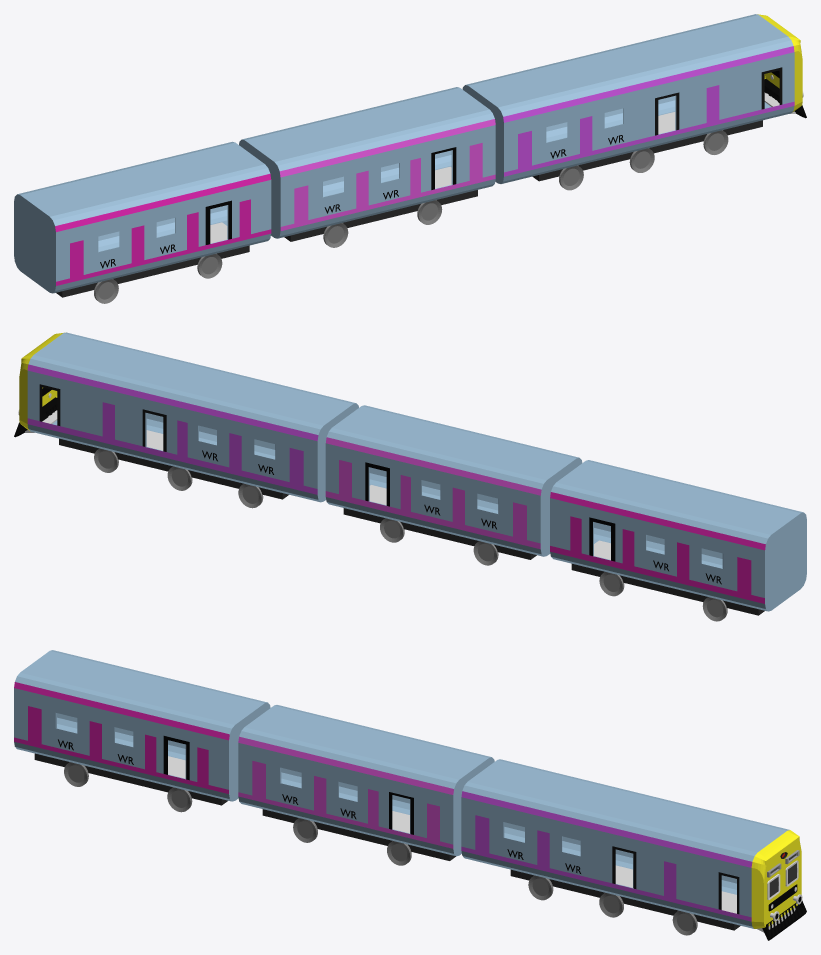
File: Train.gltf
3 views of the same model, one above another, from view 1: azimuth 30°, elevation 25°; view 2: azimuth 150°, elevation 25°; view 3: azimuth 330°, elevation 25° (orthographic).
Visible parts, largest first — view 1: Cube.003, Cube.001, Cube.002, Cube.013, Cube.014, Cube.012; view 2: Cube.003, Cube.001, Cube.002, Cube.013, Cube.012, Cube.014; view 3: Cube.003, Cube.001, Cube.002, Cube.013, Cube.012, Cube.014, Cube.011.
Part boxes in pixels (bbox=[...]): Cube.003: bbox=[462, 14, 802, 183]; Cube.001: bbox=[14, 141, 271, 293]; Cube.002: bbox=[239, 87, 495, 238]; Cube.013: bbox=[532, 112, 762, 181]; Cube.014: bbox=[56, 222, 249, 297]; Cube.012: bbox=[284, 166, 477, 241]; Cube.003: bbox=[19, 332, 358, 502]; Cube.001: bbox=[550, 460, 806, 611]; Cube.002: bbox=[325, 405, 582, 556]; Cube.013: bbox=[59, 430, 288, 499]; Cube.012: bbox=[343, 485, 536, 559]; Cube.014: bbox=[571, 540, 764, 615]; Cube.003: bbox=[461, 759, 801, 928]; Cube.001: bbox=[14, 650, 270, 801]; Cube.002: bbox=[238, 705, 494, 856]; Cube.013: bbox=[510, 865, 740, 930]; Cube.012: bbox=[262, 809, 455, 860]; Cube.014: bbox=[34, 753, 227, 805]; Cube.011: bbox=[762, 900, 806, 940].
Size of the model in its own units: 21.05 by 2.66 by 2.04.
